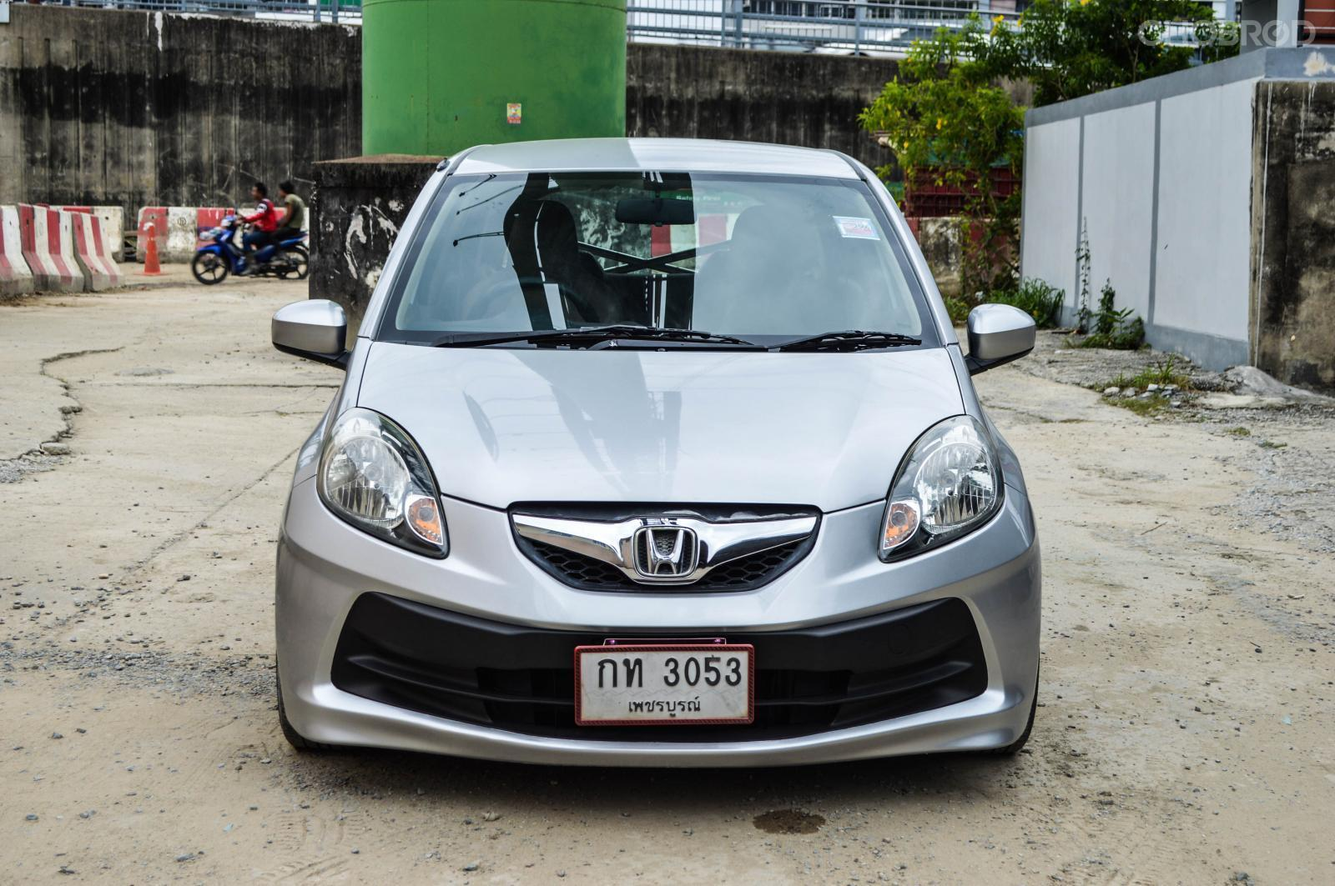license-plate: (573, 637, 757, 735)
